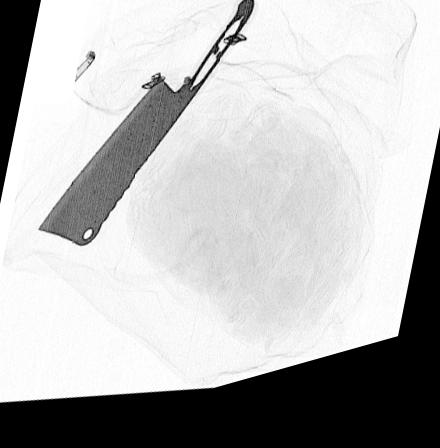Knife: (34, 8, 254, 252)
